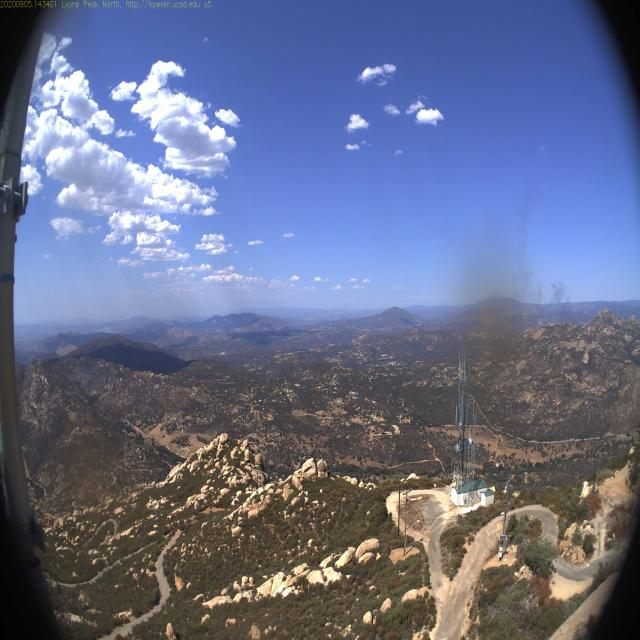smoke: (510, 208, 542, 332), (548, 273, 582, 333)
